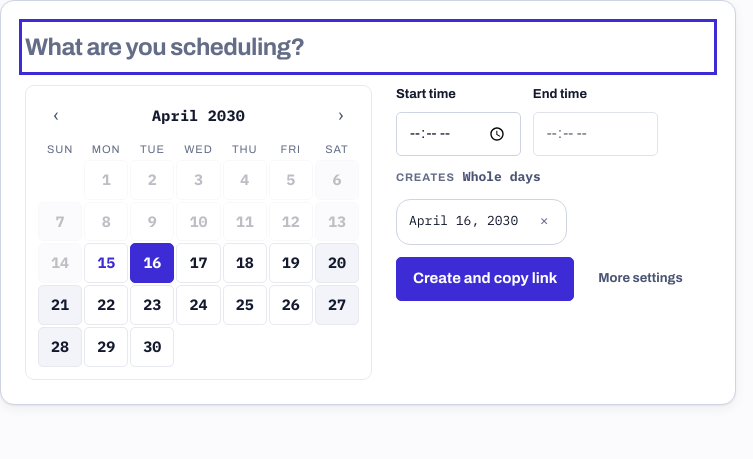
Test case: AppointmentComposer validation › blocks a missing title
What coordinates should you click on to do the following:
click the button "Create and copy link"
I would click on:
 (485, 279)
Its box is [396,257,574,301].
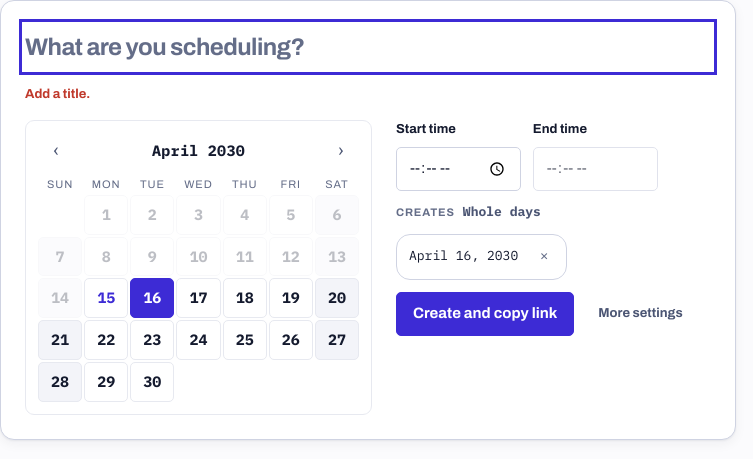
expect the message with id "composer-title-error" reads "Add a title.": met, box [25,87,90,101]
